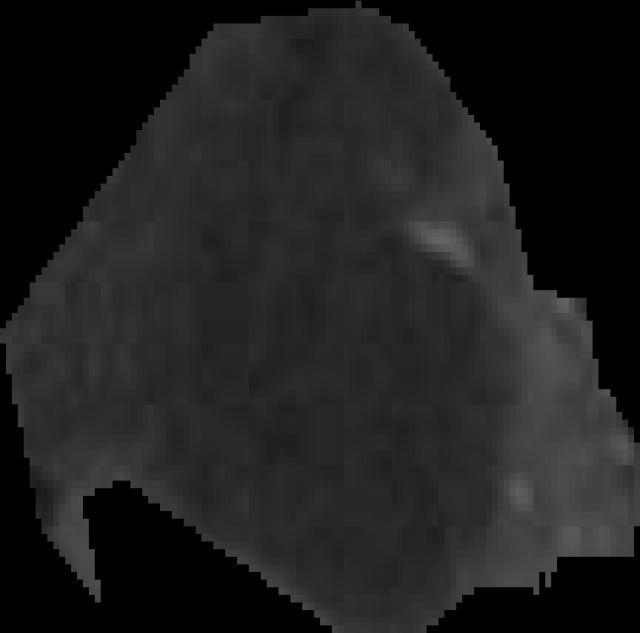tumor_moderate_chance: (0, 1, 640, 633)
